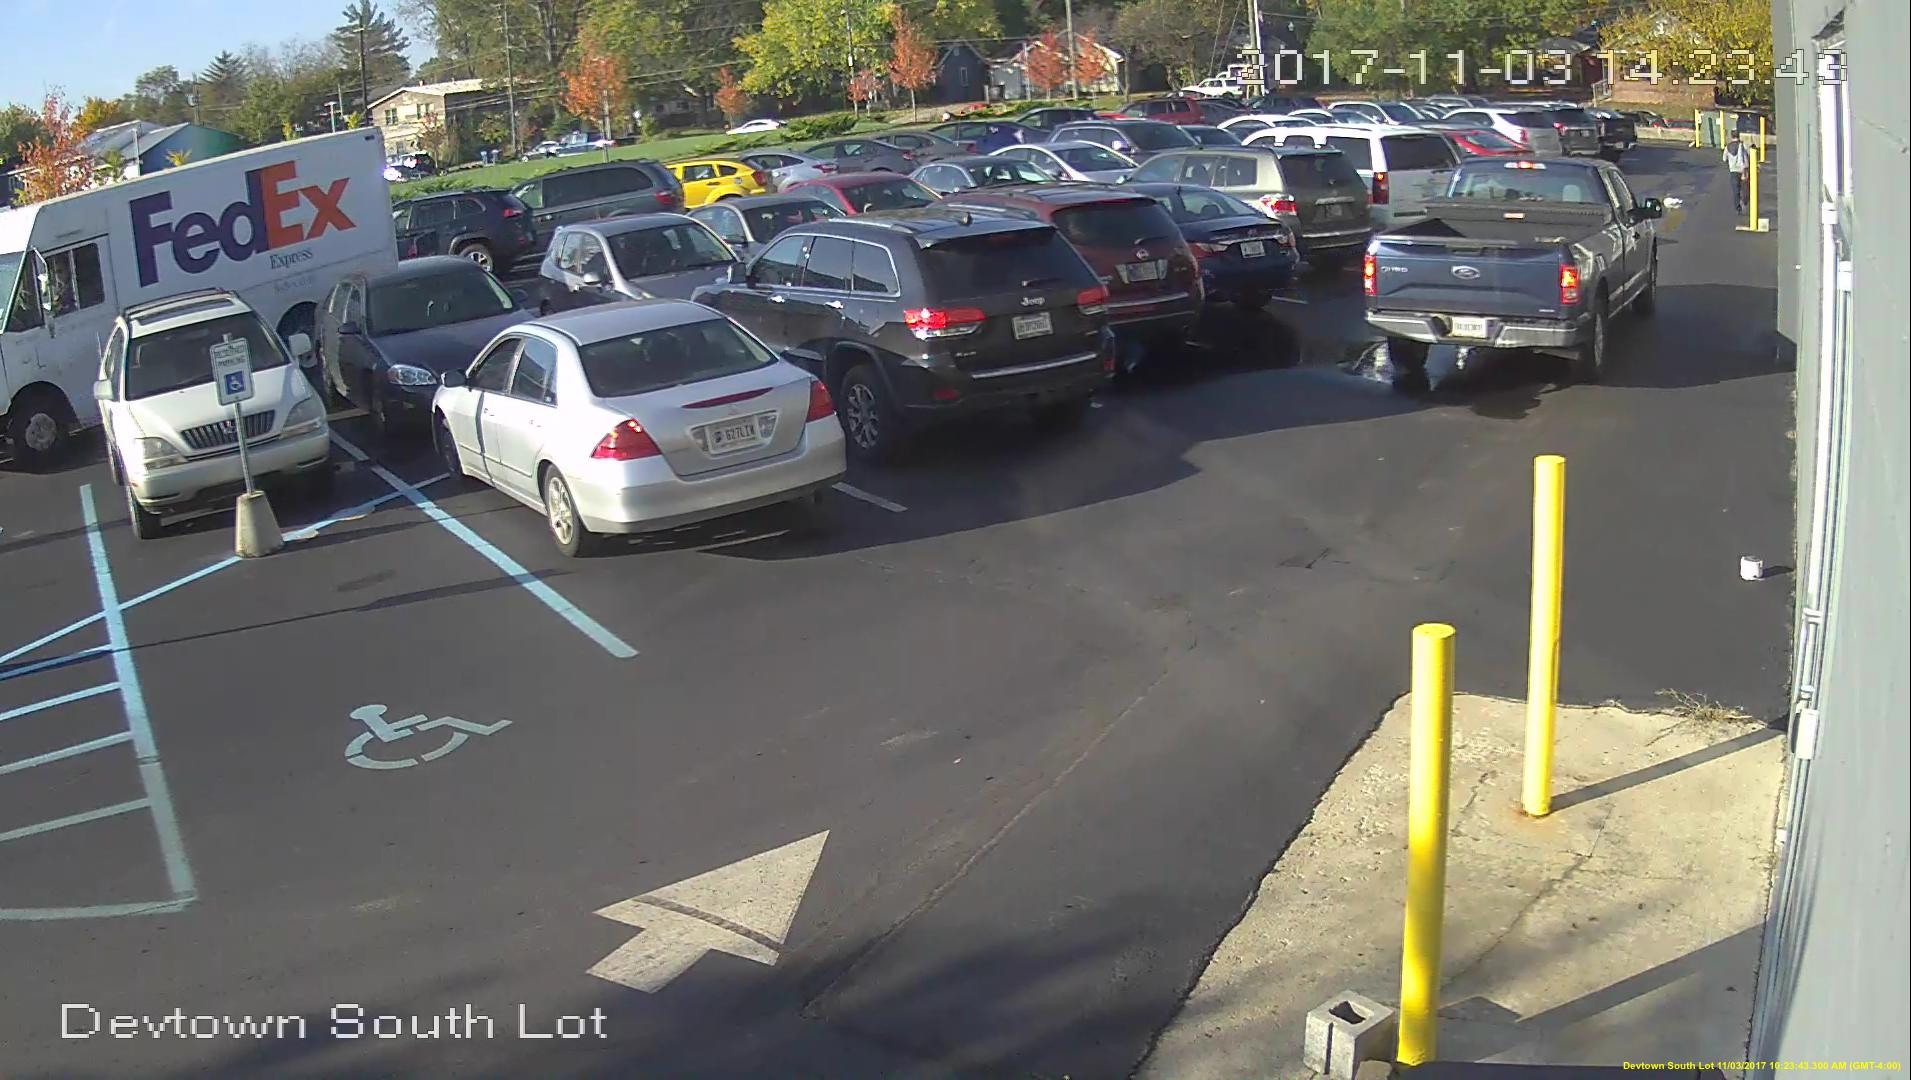fedex_truck: (1, 130, 400, 471)
